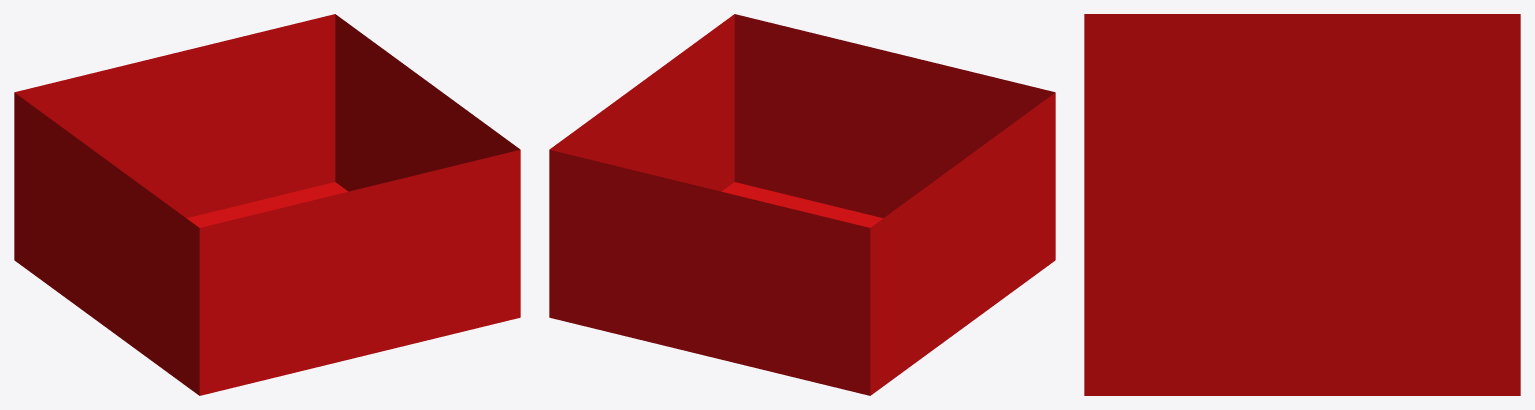
Rendered from cube_room_0.glb.
3 renders of one model, left to right at view 1: azimuth 30°, elevation 25°; view 2: azimuth 150°, elevation 25°; view 3: azimuth 270°, elevation 25°, orthographic. The views are drawn at different scales.
Visible parts, largest first — view 1: cube_room_0; view 2: cube_room_0; view 3: cube_room_0.
Boxes of the visible parts, left/top/right/bottom form: cube_room_0: left=14, top=14, right=520, bottom=395; cube_room_0: left=549, top=14, right=1055, bottom=395; cube_room_0: left=1084, top=14, right=1520, bottom=395.
Size of the model in its own units: 2 by 1 by 2.
